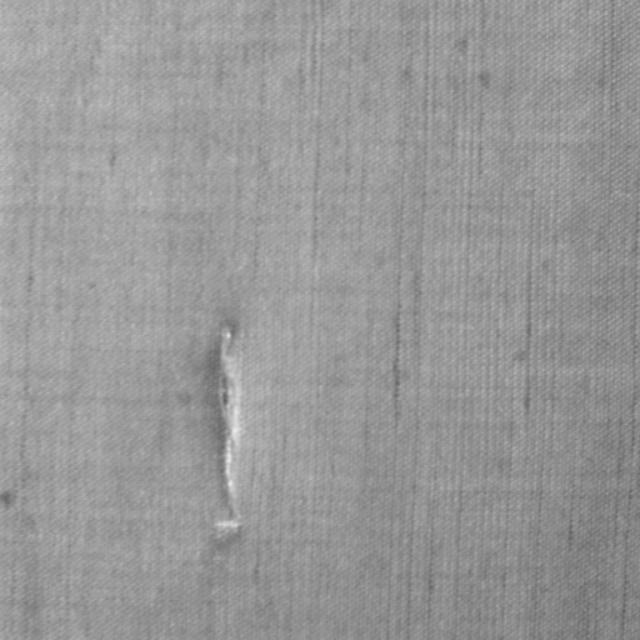hole: (208, 314, 248, 545)
